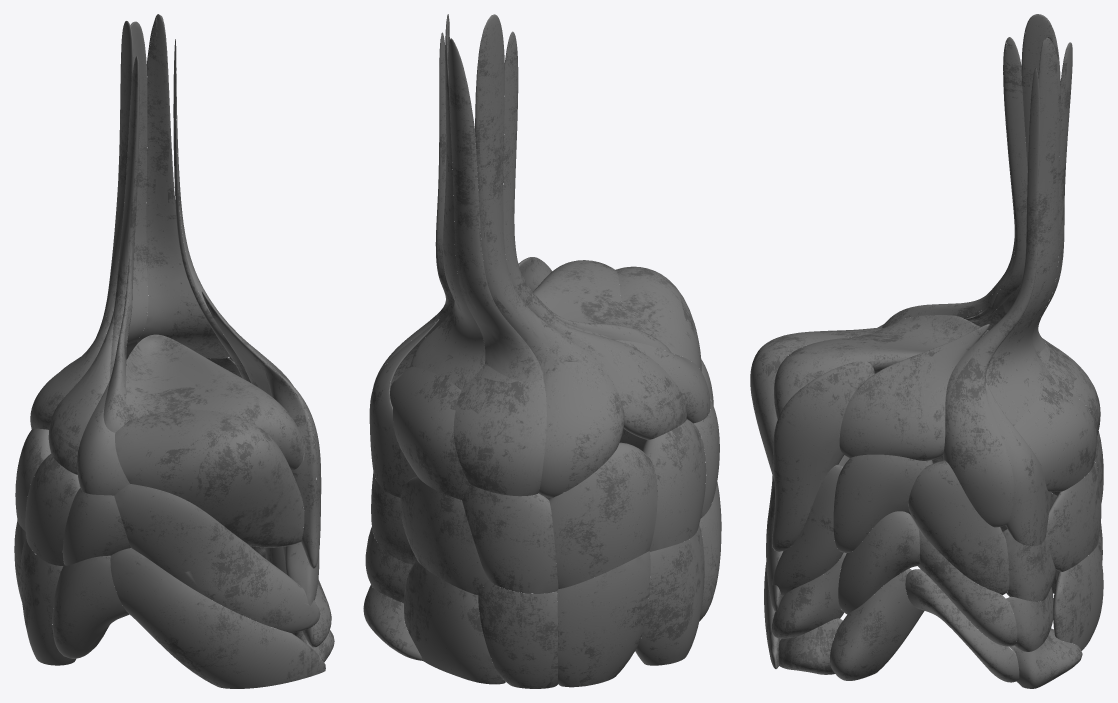
Rendered from e66-antrst-v29.glb.
3 renders of one model, left to right at view 1: azimuth 30°, elevation 25°; view 2: azimuth 150°, elevation 25°; view 3: azimuth 270°, elevation 25°, orthographic. The views are drawn at different scales.
Visible parts, largest first — view 1: Object_1; view 2: Object_1; view 3: Object_1.
Boxes of the visible parts, bbox=[...] form: Object_1: bbox=[14, 14, 334, 688]; Object_1: bbox=[363, 14, 721, 688]; Object_1: bbox=[750, 14, 1103, 688].
Size of the model in its own units: 0.6043 by 1.24 by 0.6467.
Materials: 1 (1 with a texture image).
